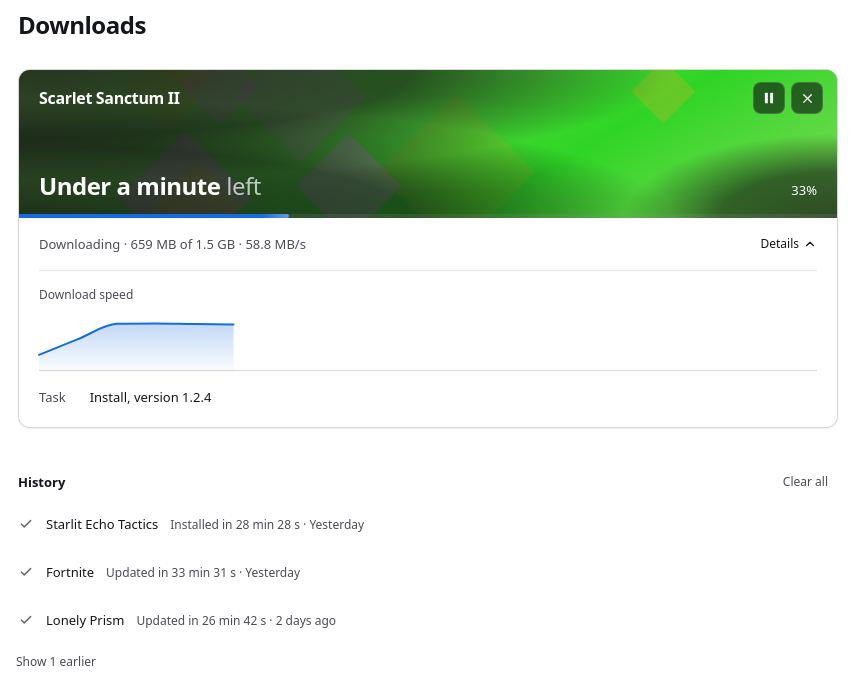
it: the card, running › Details stays open the way the player left it, and storage that throws changes nothing
Earlier steps of the test are not shown.
Click the button named "show details". click: [789, 244]
box: x1=752 y1=232 x2=825 y2=256
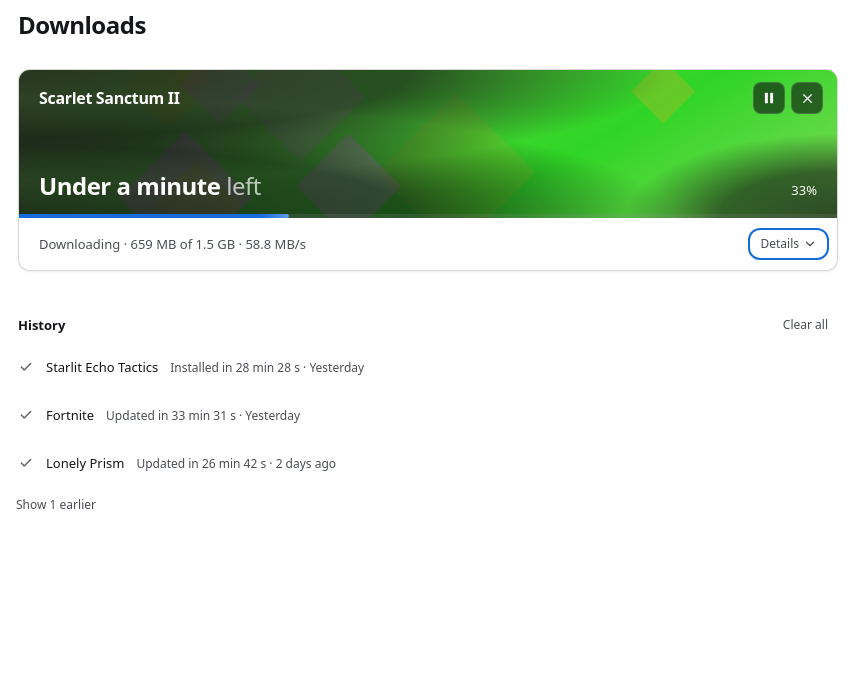
Expected: the button named "show details" is collapsed, x1=752 y1=232 x2=825 y2=256
